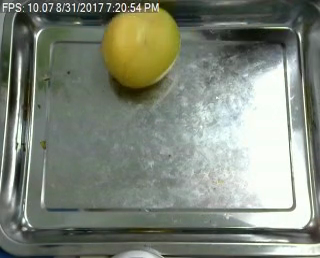Mango: (98, 3, 180, 88)
